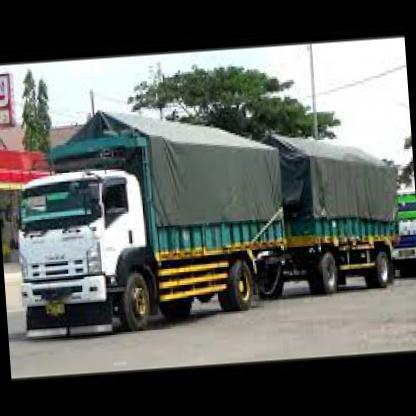truck: (12, 168, 158, 347)
